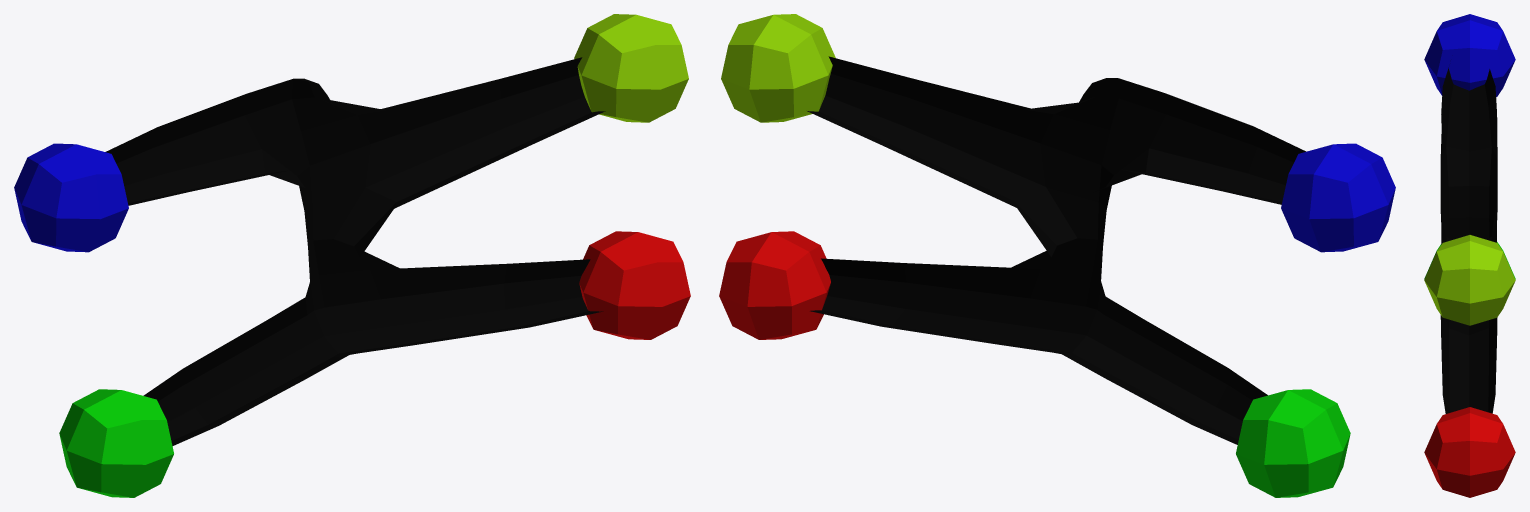
The model's file is Art Piece 1.obj.
3 renders of one model, left to right at view 1: azimuth 30°, elevation 25°; view 2: azimuth 150°, elevation 25°; view 3: azimuth 270°, elevation 25°, orthographic. The views are drawn at different scales.
Parts seen in each view (by area): view 1: Cube.001_Cube.002; view 2: Cube.001_Cube.002; view 3: Cube.001_Cube.002.
Boxes of the visible parts, left/top/right/bottom form: Cube.001_Cube.002: left=14, top=14, right=690, bottom=497; Cube.001_Cube.002: left=719, top=14, right=1395, bottom=497; Cube.001_Cube.002: left=1424, top=14, right=1515, bottom=497.
Size of the model in its own units: 5.57 by 2.99 by 0.847.
